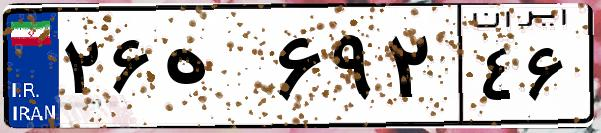2: (385, 28, 445, 110), (57, 26, 110, 100)
4: (475, 38, 525, 113)
6: (270, 28, 330, 110), (525, 38, 570, 115), (110, 28, 158, 98)
9: (330, 28, 385, 110)
ه: (158, 20, 270, 120)
